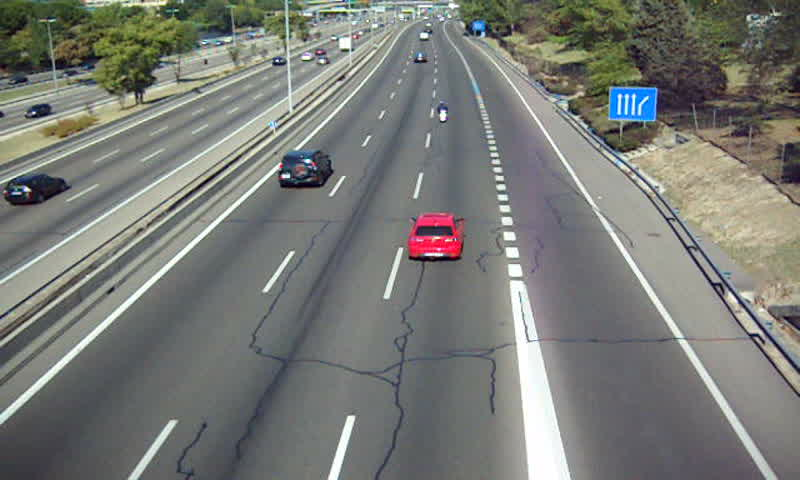car: (408, 214, 465, 258), (280, 151, 332, 187)
motorcycle: (435, 100, 449, 126)
